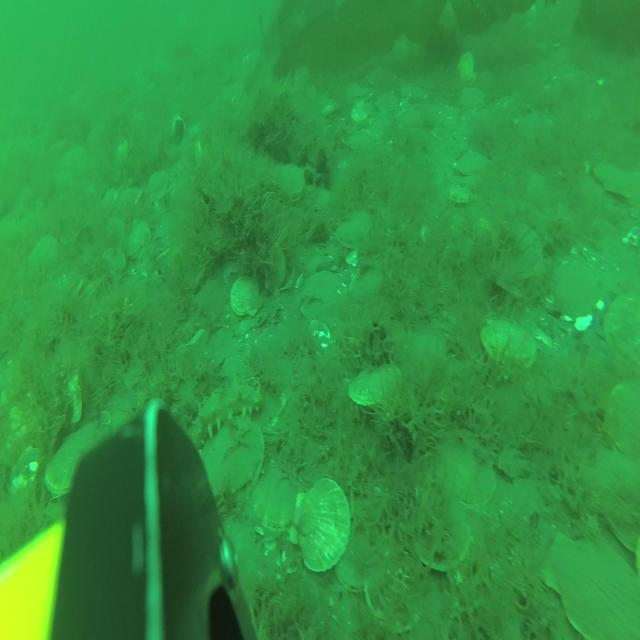holothurian: (186, 381, 264, 439)
scallop: (543, 524, 640, 638), (589, 448, 640, 564), (403, 482, 469, 571), (435, 425, 495, 515), (203, 426, 268, 504), (367, 545, 427, 628), (296, 480, 349, 569), (547, 249, 607, 321), (247, 461, 301, 534), (488, 224, 544, 293), (337, 519, 388, 593), (47, 422, 99, 494), (480, 316, 537, 378), (348, 360, 402, 414), (604, 379, 640, 452), (608, 292, 640, 367), (254, 239, 288, 292), (592, 160, 634, 202), (27, 234, 61, 276), (457, 144, 489, 181), (231, 276, 259, 317), (274, 164, 302, 202), (351, 270, 382, 301), (102, 245, 128, 281), (127, 223, 150, 261), (338, 218, 365, 250), (458, 85, 486, 113), (448, 186, 474, 213), (456, 47, 476, 80), (377, 90, 400, 118), (402, 76, 424, 104)
